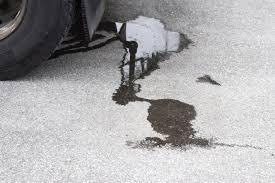water accumulation: (41, 13, 222, 151)
